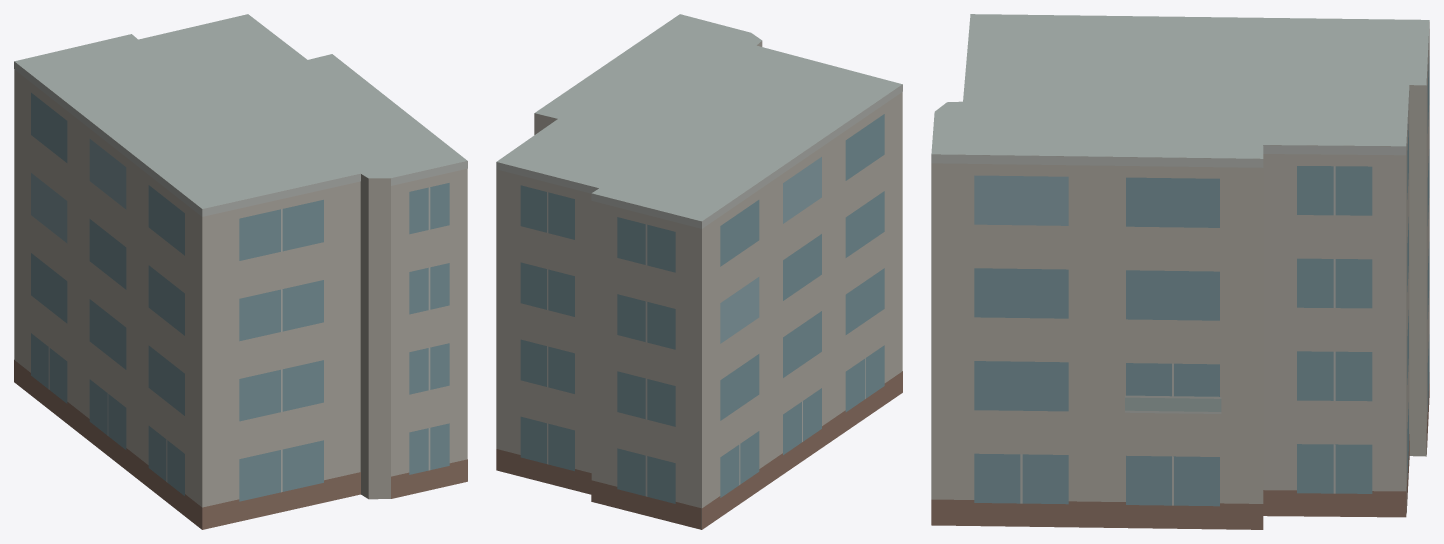
File: survey-upis-32739739.glb
The picture shows the model from 3 angles, left to right: view 1: azimuth 30°, elevation 25°; view 2: azimuth 150°, elevation 25°; view 3: azimuth 270°, elevation 25°; orthographic projection. The views are drawn at different scales.
Parts seen in each view (by area): view 1: survey-upis-32739739.tmp; view 2: survey-upis-32739739.tmp; view 3: survey-upis-32739739.tmp.
Part boxes in pixels (box(x1,y1,x2,y2)): survey-upis-32739739.tmp: box(14, 14, 467, 529); survey-upis-32739739.tmp: box(496, 14, 902, 529); survey-upis-32739739.tmp: box(931, 14, 1429, 529).
Bounding box in the file's own units: 8.41 × 10.04 × 12.23.
